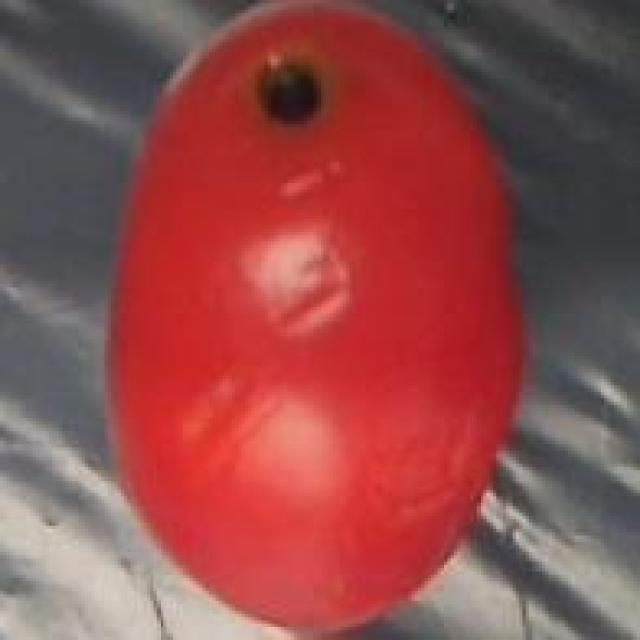overripe tomato: (101, 0, 526, 640)
